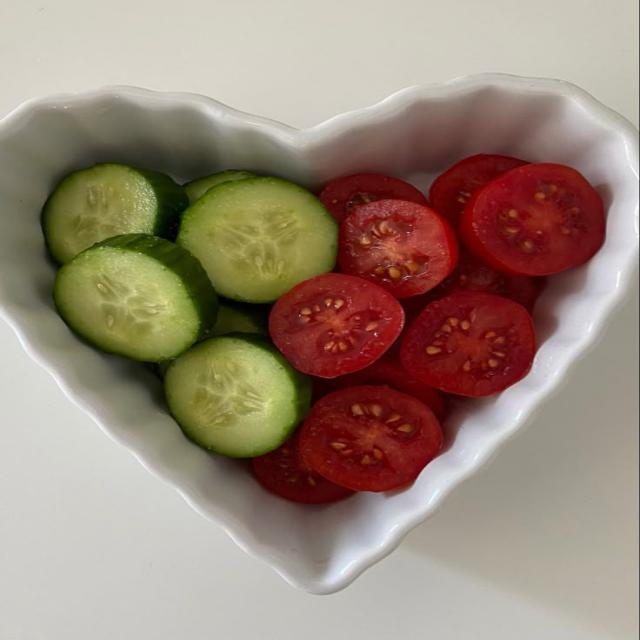sliced_tomato: (460, 164, 605, 275), (300, 386, 442, 491), (401, 292, 535, 397), (269, 274, 404, 377), (339, 200, 458, 297), (313, 354, 446, 420), (253, 432, 353, 504), (430, 154, 527, 225), (430, 252, 540, 312), (320, 174, 427, 222)
